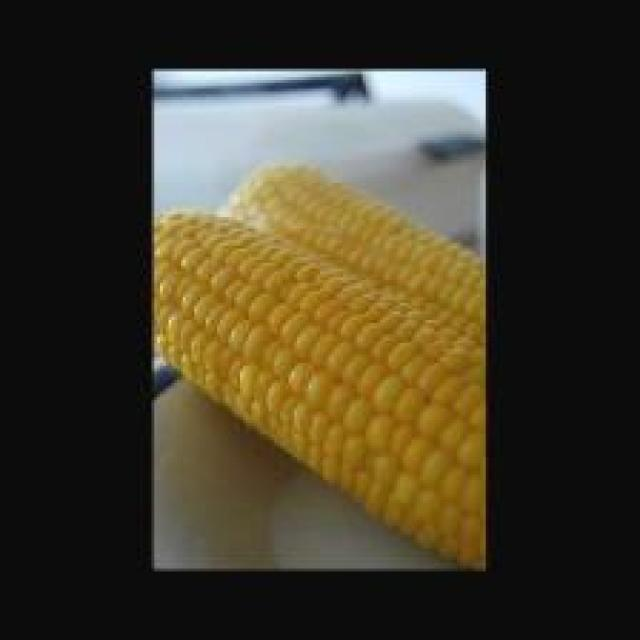corn: (157, 163, 486, 569)
